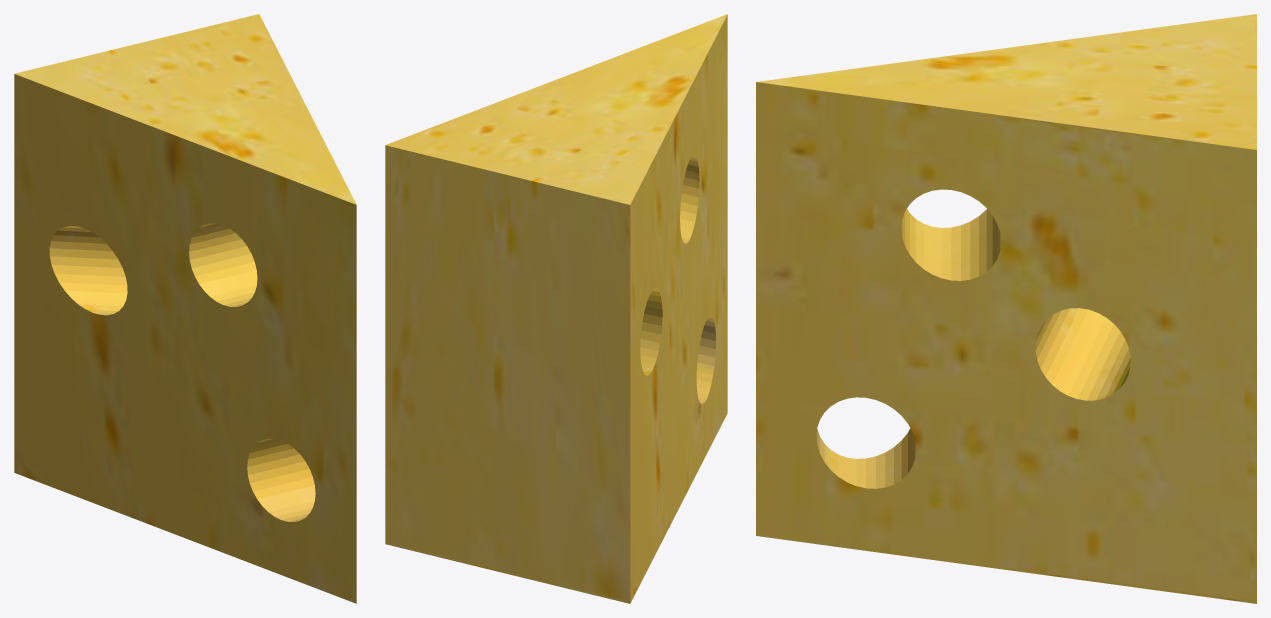
The model's file is cheese.fbx.
3 views of the same model, side by side, from view 1: azimuth 30°, elevation 25°; view 2: azimuth 150°, elevation 25°; view 3: azimuth 270°, elevation 25° (orthographic). The views are drawn at different scales.
Visible parts, largest first — view 1: Cube; view 2: Cube; view 3: Cube.
Boxes of the visible parts, <box> form: Cube: <box>14,14,356,603</box>; Cube: <box>385,14,727,603</box>; Cube: <box>756,14,1256,603</box>.
Size of the model in its own units: 129 by 200 by 200.
1 material, 1 textured.
